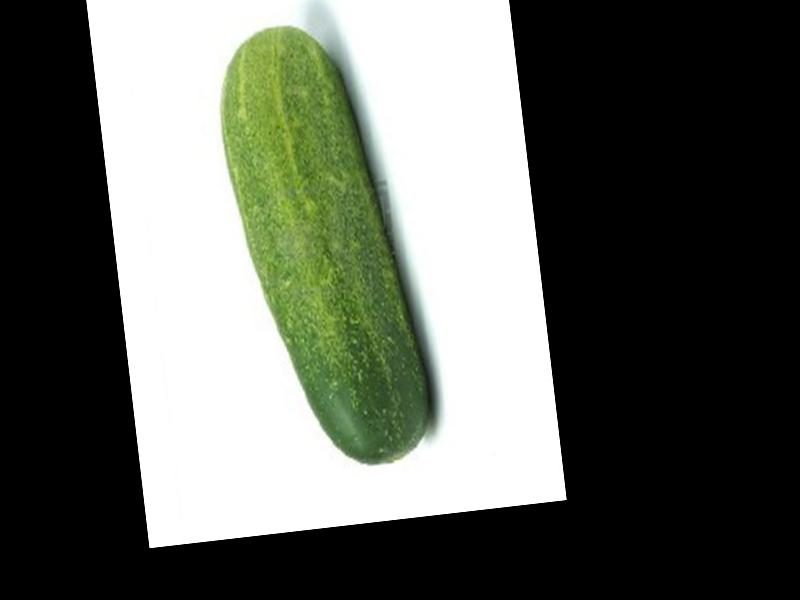Cucumber: (211, 14, 437, 475)
